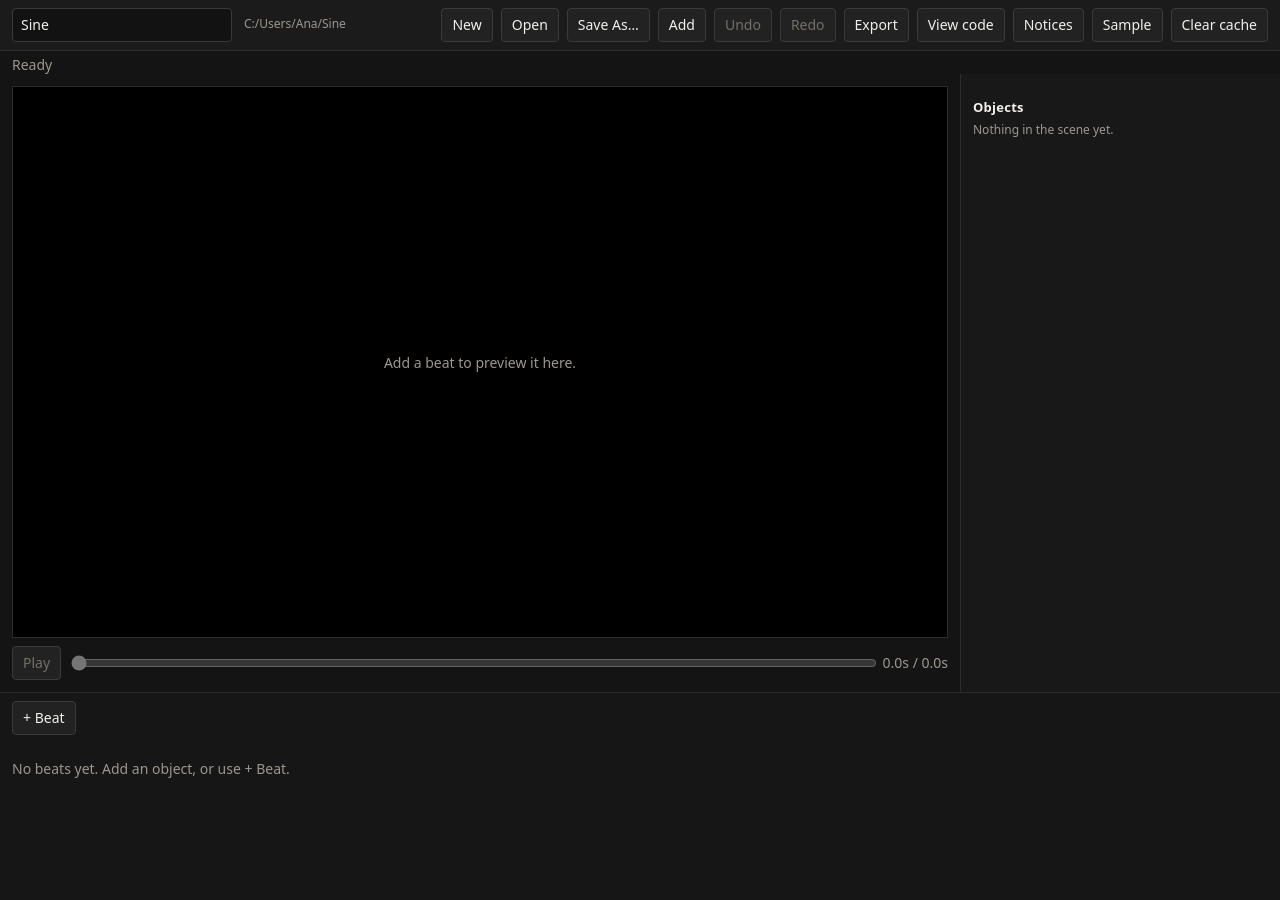
Scenario: App › answers a project_changed refusal with the prompt, not a banner, and Overwrite retries the edit
Expected: the text with test id "status" reads "Ready", [12, 55, 52, 74]
Replace the text in the field with test id "project-name" with "Renamed" at (122, 25), box [12, 8, 232, 42]
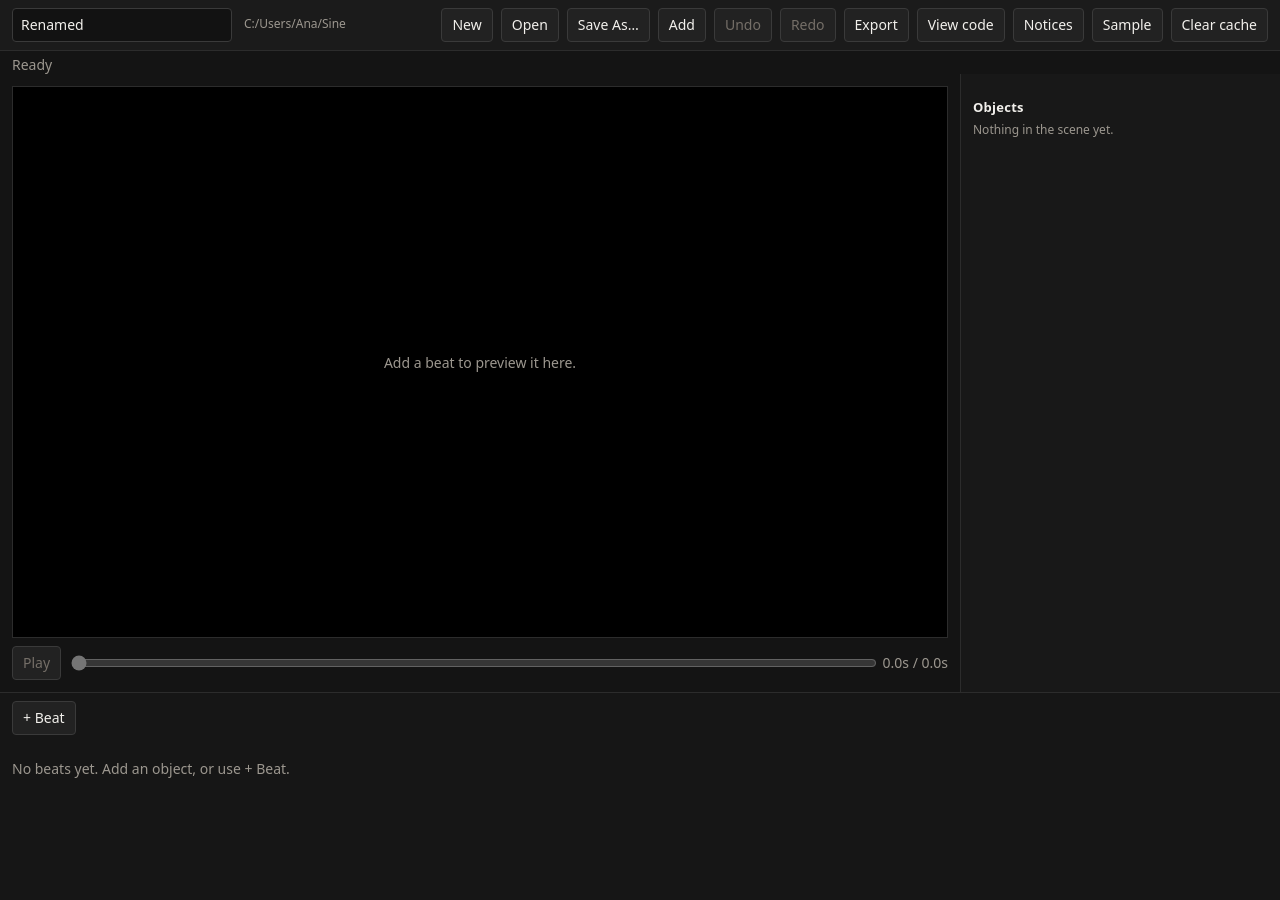
Leave the field with test id "project-name", box [12, 8, 232, 42]
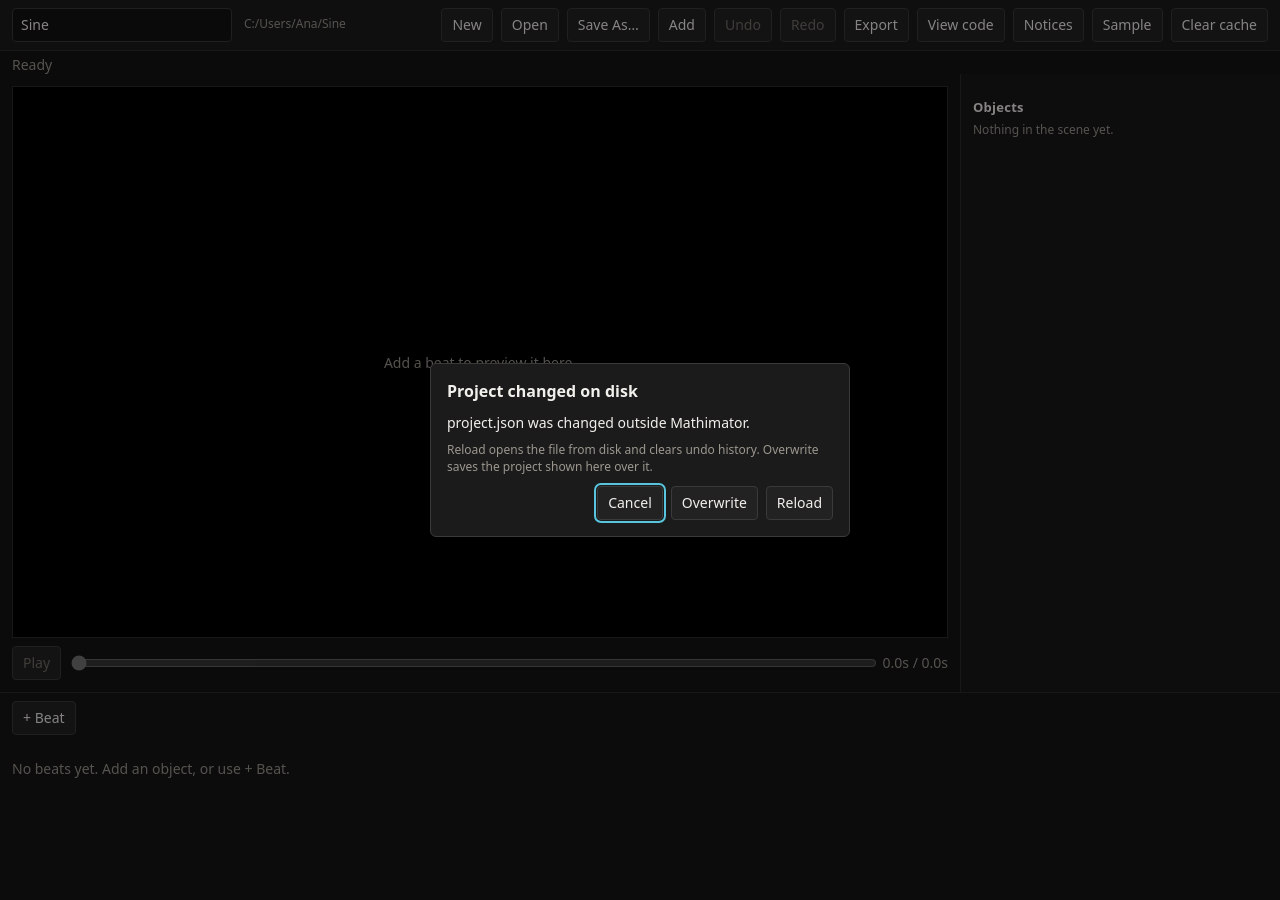
Expected: the text "project.json was changed outside Mathimator." is shown, [447, 413, 750, 432]
Click the button "Overwrite".
click(714, 503)  # box [671, 486, 758, 520]
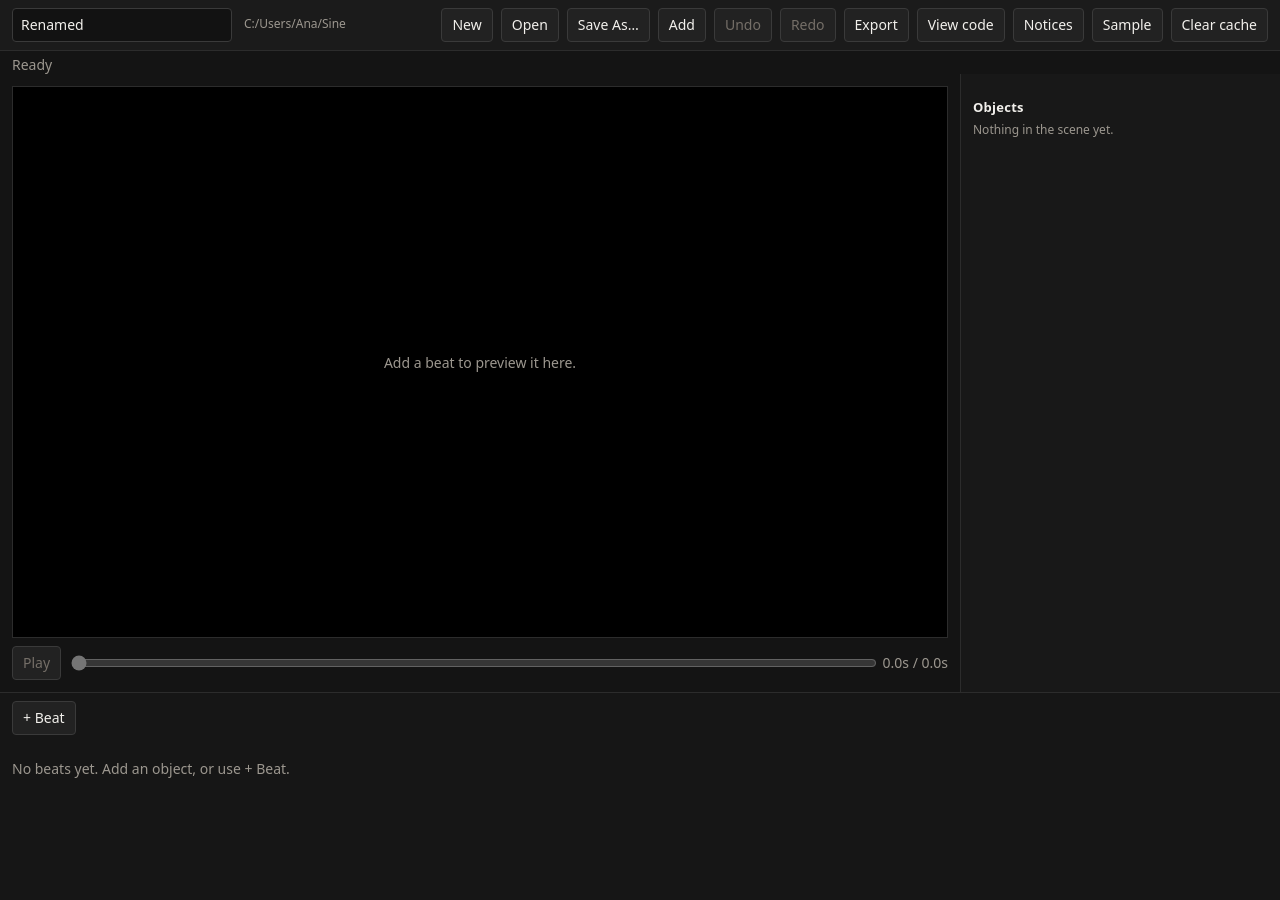
Expected: the dialog is gone
